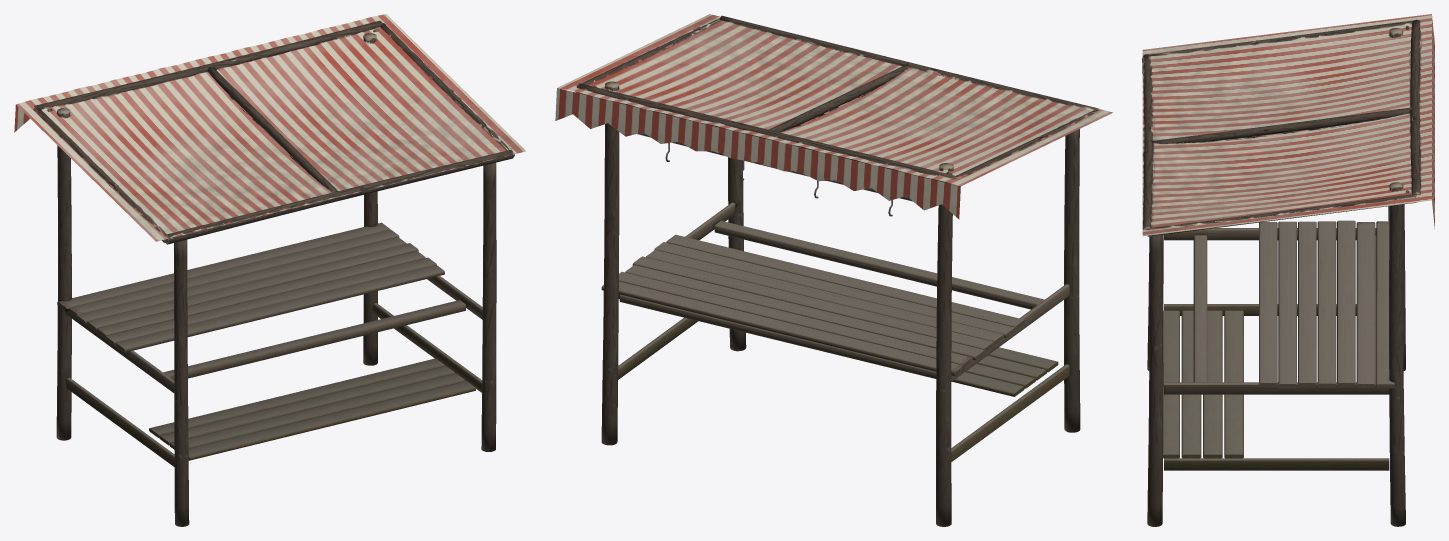
The model's file is SM_Camp_MarketStall.fbx.
The picture shows the model from 3 angles, left to right: view 1: azimuth 30°, elevation 25°; view 2: azimuth 150°, elevation 25°; view 3: azimuth 270°, elevation 25°; orthographic projection. The views are drawn at different scales.
Parts seen in each view (by area): view 1: SM_Camp_MarketStall; view 2: SM_Camp_MarketStall; view 3: SM_Camp_MarketStall.
Boxes of the visible parts, box(x1,y1,x2,y2) form: SM_Camp_MarketStall: box(14, 14, 525, 526); SM_Camp_MarketStall: box(555, 14, 1112, 526); SM_Camp_MarketStall: box(1142, 14, 1434, 526).
Size of the model in its own units: 290 by 192 by 247.
